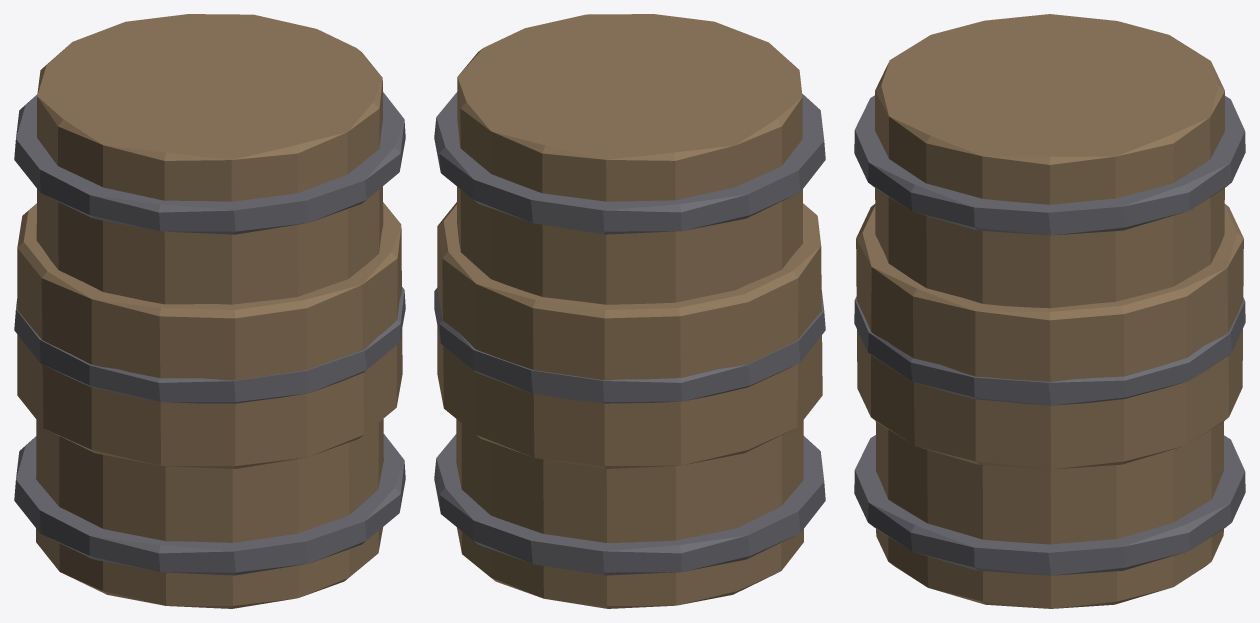
Rendered from dgn_barrel.glb.
3 renders of one model, left to right at view 1: azimuth 30°, elevation 25°; view 2: azimuth 150°, elevation 25°; view 3: azimuth 270°, elevation 25°, orthographic.
Parts seen in each view (by area): view 1: dgn_barrel; view 2: dgn_barrel; view 3: dgn_barrel.
Boxes of the visible parts, x1,y1,x2,y2 form: dgn_barrel: (14,14,405,608); dgn_barrel: (434,14,825,608); dgn_barrel: (854,14,1245,608).
Bounding box in the file's own units: 0.6257 × 0.8 × 0.6257.
